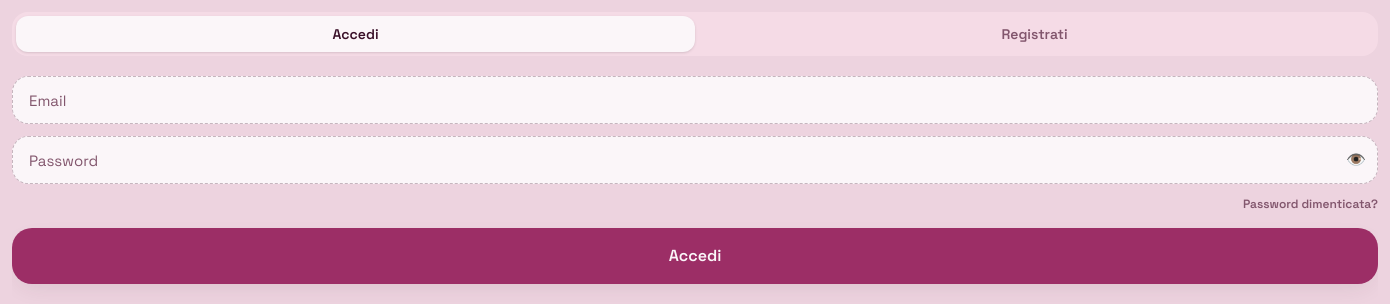
Test: LoginForm — recupero password › 'Password dimenticata?' mostra il form di recupero (solo email) e nasconde i tab Accedi/Registrati
What coordinates should you click on to do the following:
click the button "Password dimenticata?"
I would click on:
 (1310, 204)
Its box is 1243,196 -> 1378,212.
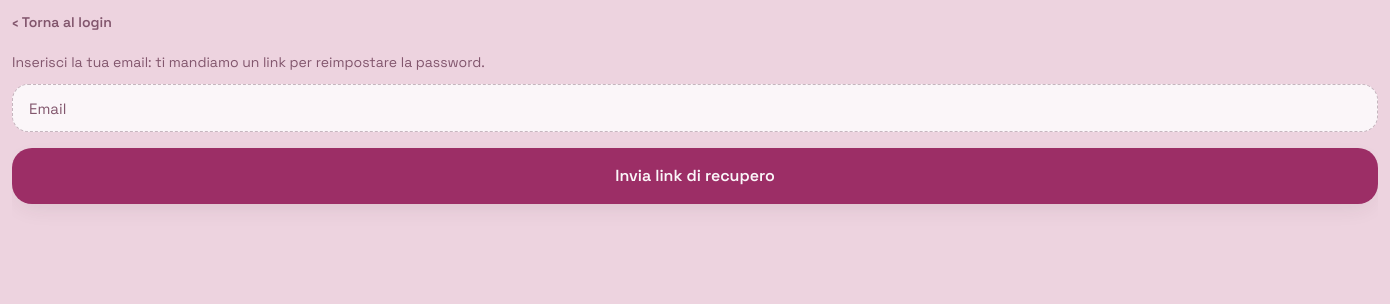
Expected: the button "Invia link di recupero" is shown, 12,148 -> 1378,204
Expected: the button "Registrati" is gone
